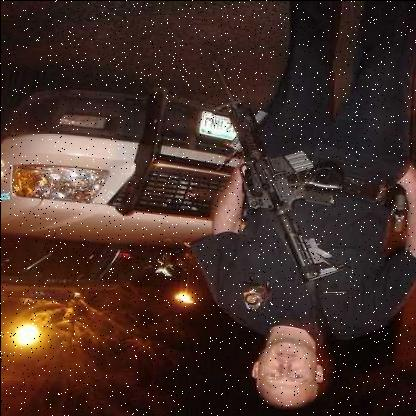rifle: (189, 43, 351, 283)
